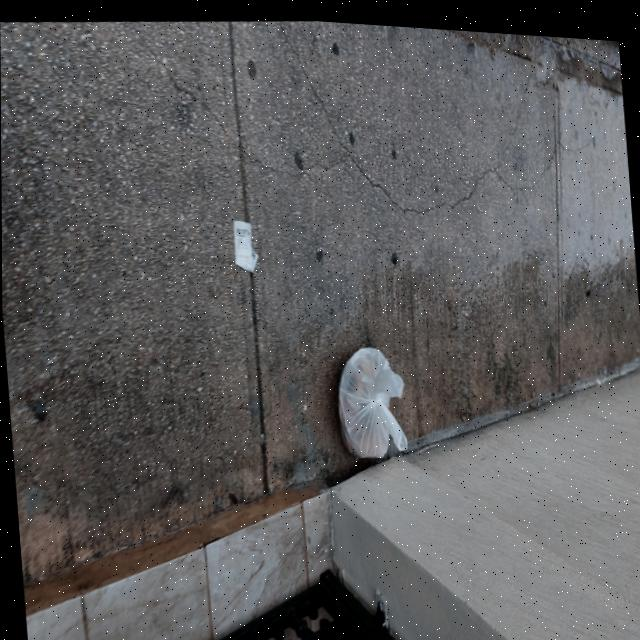Organic Waste -White Bag-: (332, 339, 409, 457)
